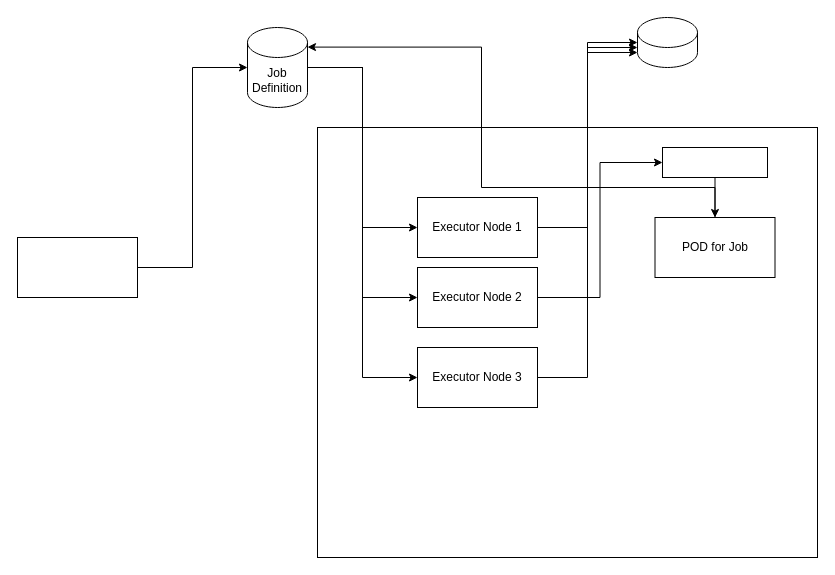
The diagram is 835 pixels wide and 575 high, and some of its shapes have lost their labels. The shapes that lost their labels are listed below. From the top down, each one's centre as x and y in pixels, then its label:
point 667,42: Redis
point 715,162: Kube Scheduler
